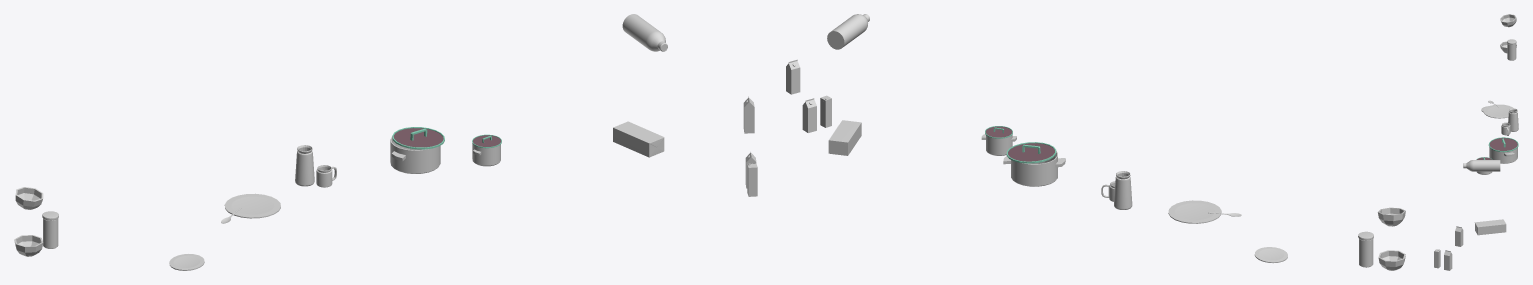
File: assets.fbx
3 renders of one model, left to right at view 1: azimuth 30°, elevation 25°; view 2: azimuth 150°, elevation 25°; view 3: azimuth 270°, elevation 25°, orthographic. The views are drawn at different scales.
Parts seen in each view (by area): view 1: polySurface64, pCube72, pCylinder54, pCylinder62, polySurface65, pCylinder60, pCylinder29, polySurface66, pSphere2, pSphere1, pCylinder55; view 2: polySurface64, pCylinder54, pCube72, pCylinder62, polySurface65, pCylinder60, pCylinder29, polySurface66, pCylinder57, pCylinder58, pSphere1, pCylinder55 (+1 smaller); view 3: pCube72, pCylinder62, polySurface65, pCylinder54, polySurface64, pCylinder60, pCylinder29, pSphere2, pCylinder57, pCylinder58, pCube71, pCylinder59 (+1 smaller).
Boxes of the visible parts, left/top/right/bottom form: polySurface64: left=390, top=136, right=440, bottom=173; pCube72: left=613, top=121, right=664, bottom=157; pCylinder54: left=224, top=193, right=280, bottom=218; pCylinder62: left=622, top=14, right=667, bottom=51; polySurface65: left=392, top=127, right=444, bottom=149; pCylinder60: left=295, top=145, right=314, bottom=186; pCylinder29: left=42, top=211, right=58, bottom=248; polySurface66: left=472, top=143, right=500, bottom=166; pSphere2: left=15, top=187, right=43, bottom=209; pSphere1: left=14, top=235, right=43, bottom=256; pCylinder55: left=169, top=254, right=204, bottom=270; polySurface64: left=1003, top=151, right=1065, bottom=186; pCylinder54: left=1168, top=200, right=1221, bottom=223; pCube72: left=828, top=120, right=861, bottom=155; pCylinder62: left=827, top=14, right=869, bottom=49; polySurface65: left=1006, top=142, right=1056, bottom=163; pCylinder60: left=1114, top=171, right=1132, bottom=209; pCylinder29: left=1358, top=231, right=1373, bottom=267; polySurface66: left=981, top=134, right=1016, bottom=155; pCylinder57: left=802, top=98, right=816, bottom=132; pCylinder58: left=786, top=59, right=800, bottom=94; pSphere1: left=1378, top=250, right=1405, bottom=270; pCylinder55: left=1254, top=247, right=1287, bottom=263; pCube72: left=1474, top=219, right=1506, bottom=235; pCylinder62: left=1463, top=160, right=1500, bottom=171; polySurface65: left=1488, top=137, right=1518, bottom=152; pCylinder54: left=1483, top=104, right=1513, bottom=118; polySurface64: left=1489, top=147, right=1517, bottom=163; pCylinder60: left=1508, top=108, right=1518, bottom=131; pCylinder29: left=1507, top=39, right=1516, bottom=60; pSphere2: left=1500, top=14, right=1516, bottom=27; pCylinder57: left=1444, top=250, right=1452, bottom=270; pCylinder58: left=1455, top=226, right=1463, bottom=246; pCube71: left=1434, top=249, right=1440, bottom=268; pCylinder59: left=1501, top=122, right=1510, bottom=135.
Bounding box in the file's own units: 5.4 × 1.16 × 1.
